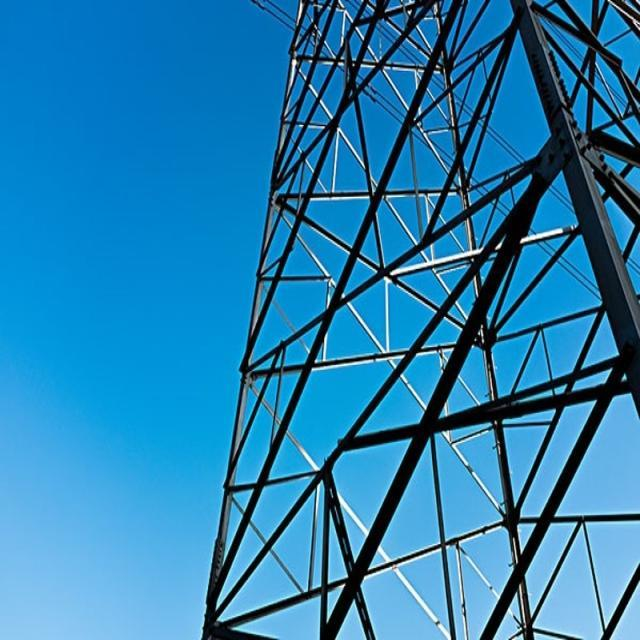non-critical vegetation: (165, 20, 638, 633)
